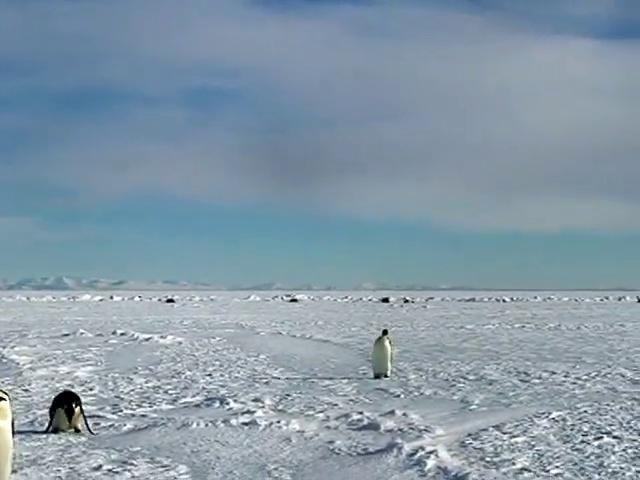animal: (44, 391, 96, 435)
